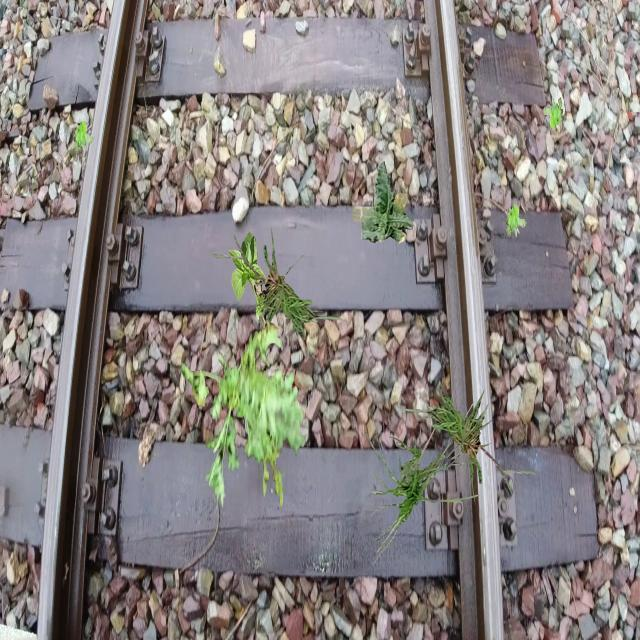Plant: (181, 316, 306, 512), (363, 401, 482, 564), (210, 224, 354, 344), (393, 386, 536, 506), (350, 161, 413, 244), (228, 231, 276, 326), (73, 121, 94, 154), (543, 98, 564, 131), (506, 204, 526, 237)
